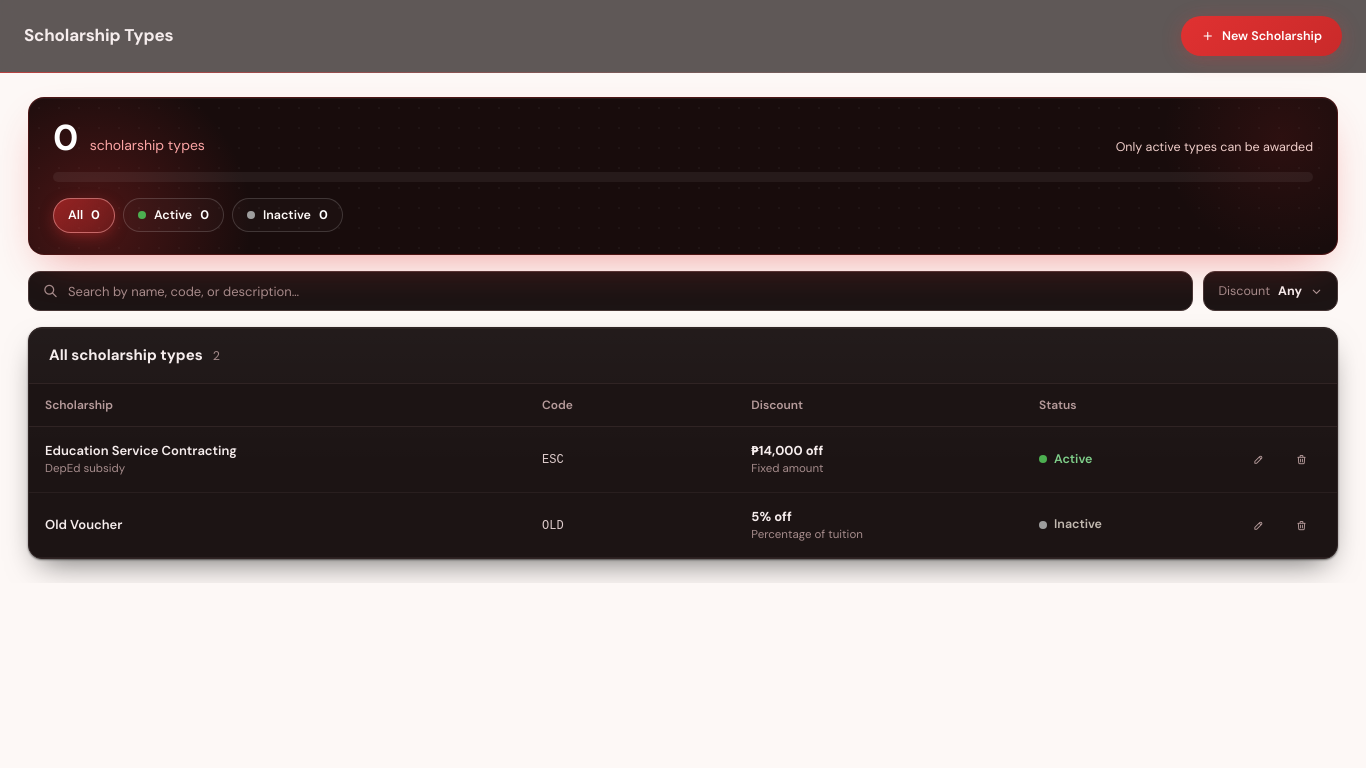
Test: Scholarship types — dark mode › opens the type editor: both discount cards, the active box and an error
The image size is (1366, 768).
Check: the text "Old Voucher" is shown, box 45,516 -> 122,533
Click the button "New Scholarship".
click(1262, 36)  # box 1181,16 -> 1342,56
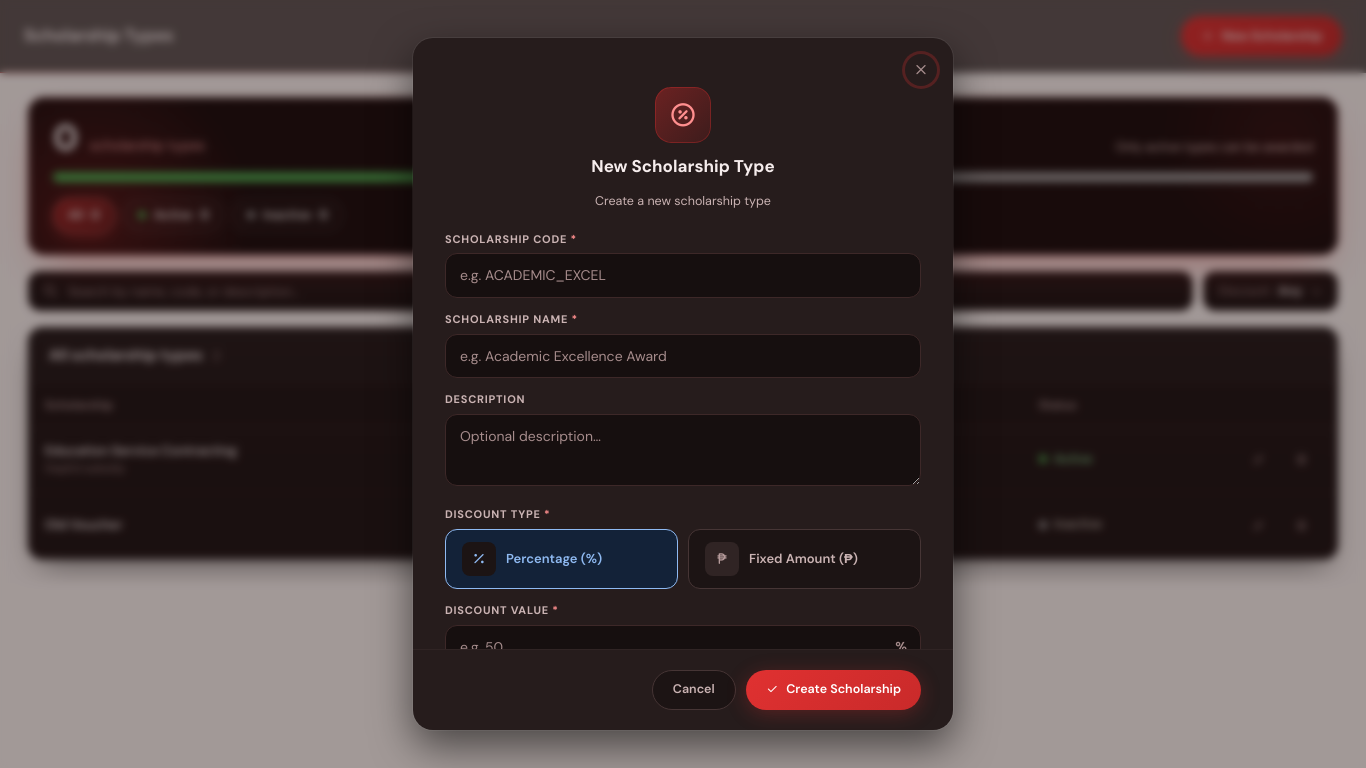
Check: the text "Percentage (%)" is shown, box 506,549 -> 602,569
Click the button "Fixed Amount (₱)".
click(804, 559)  # box 688,529 -> 921,589
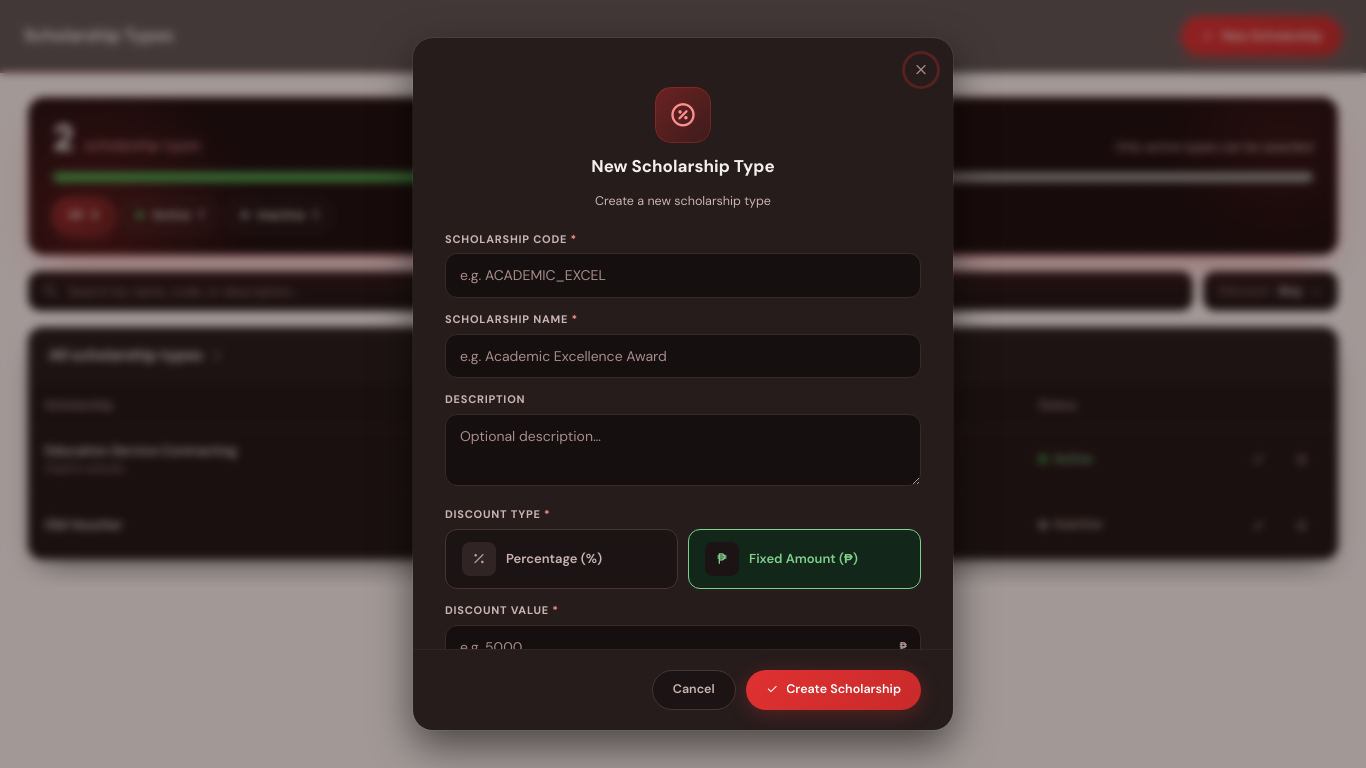
Click the button "Create Scholarship".
click(833, 690)  # box 746,670 -> 921,710
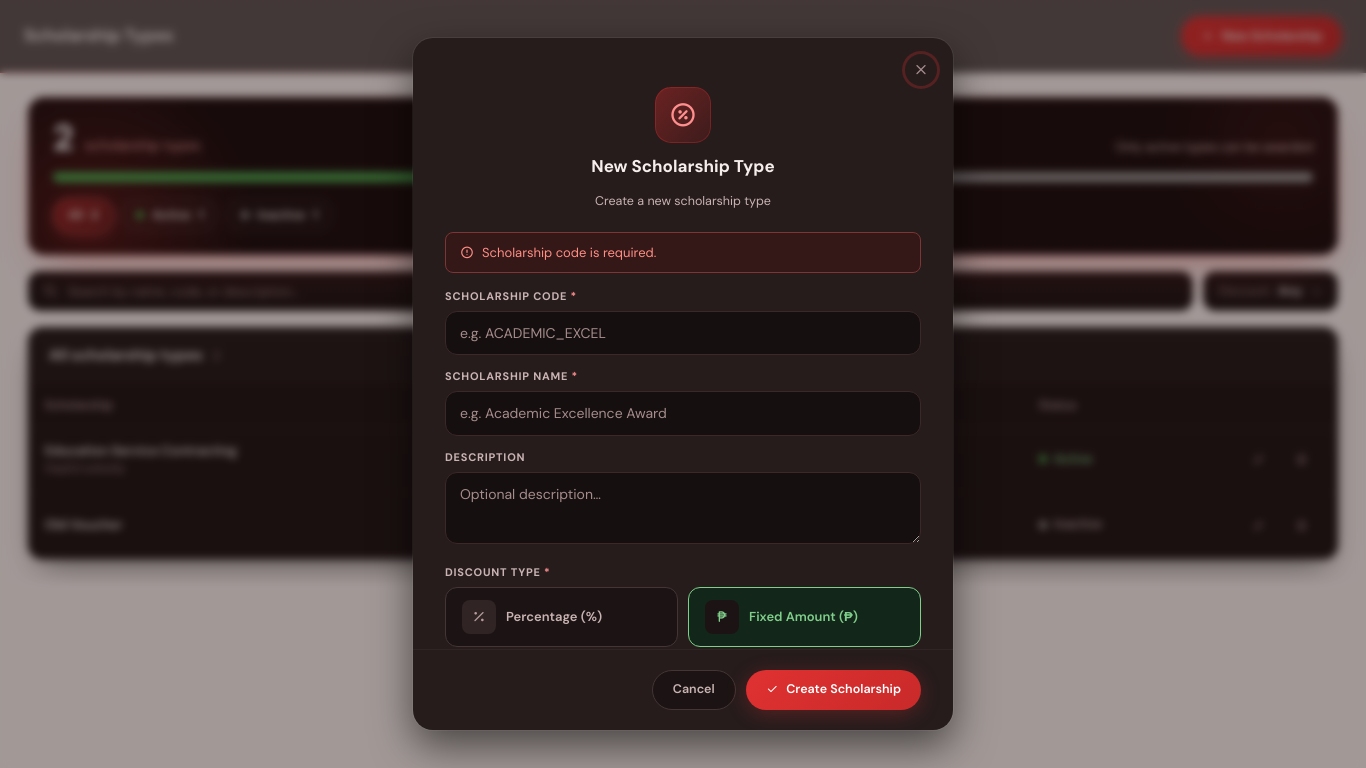
Check: the text "Scholarship code is required." is shown, box 445,232 -> 921,273
